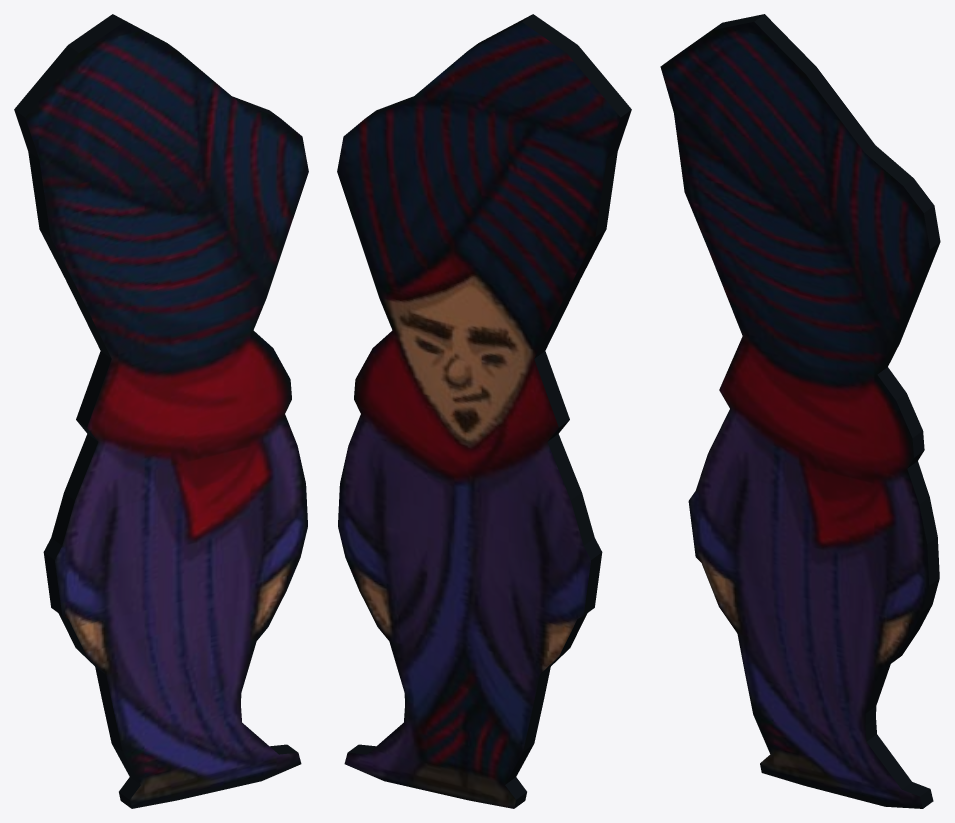
File: Evil.fbx
The picture shows the model from 3 angles, left to right: view 1: azimuth 30°, elevation 25°; view 2: azimuth 150°, elevation 25°; view 3: azimuth 330°, elevation 25°; orthographic projection. The views are drawn at different scales.
Parts seen in each view (by area): view 1: Cube; view 2: Cube; view 3: Cube.
Boxes of the visible parts, x1,y1,x2,y2 form: Cube: [14, 14, 308, 808]; Cube: [337, 14, 631, 808]; Cube: [660, 14, 940, 808].
Bounding box in the file's own units: 1.69 × 0.1152 × 4.52.
